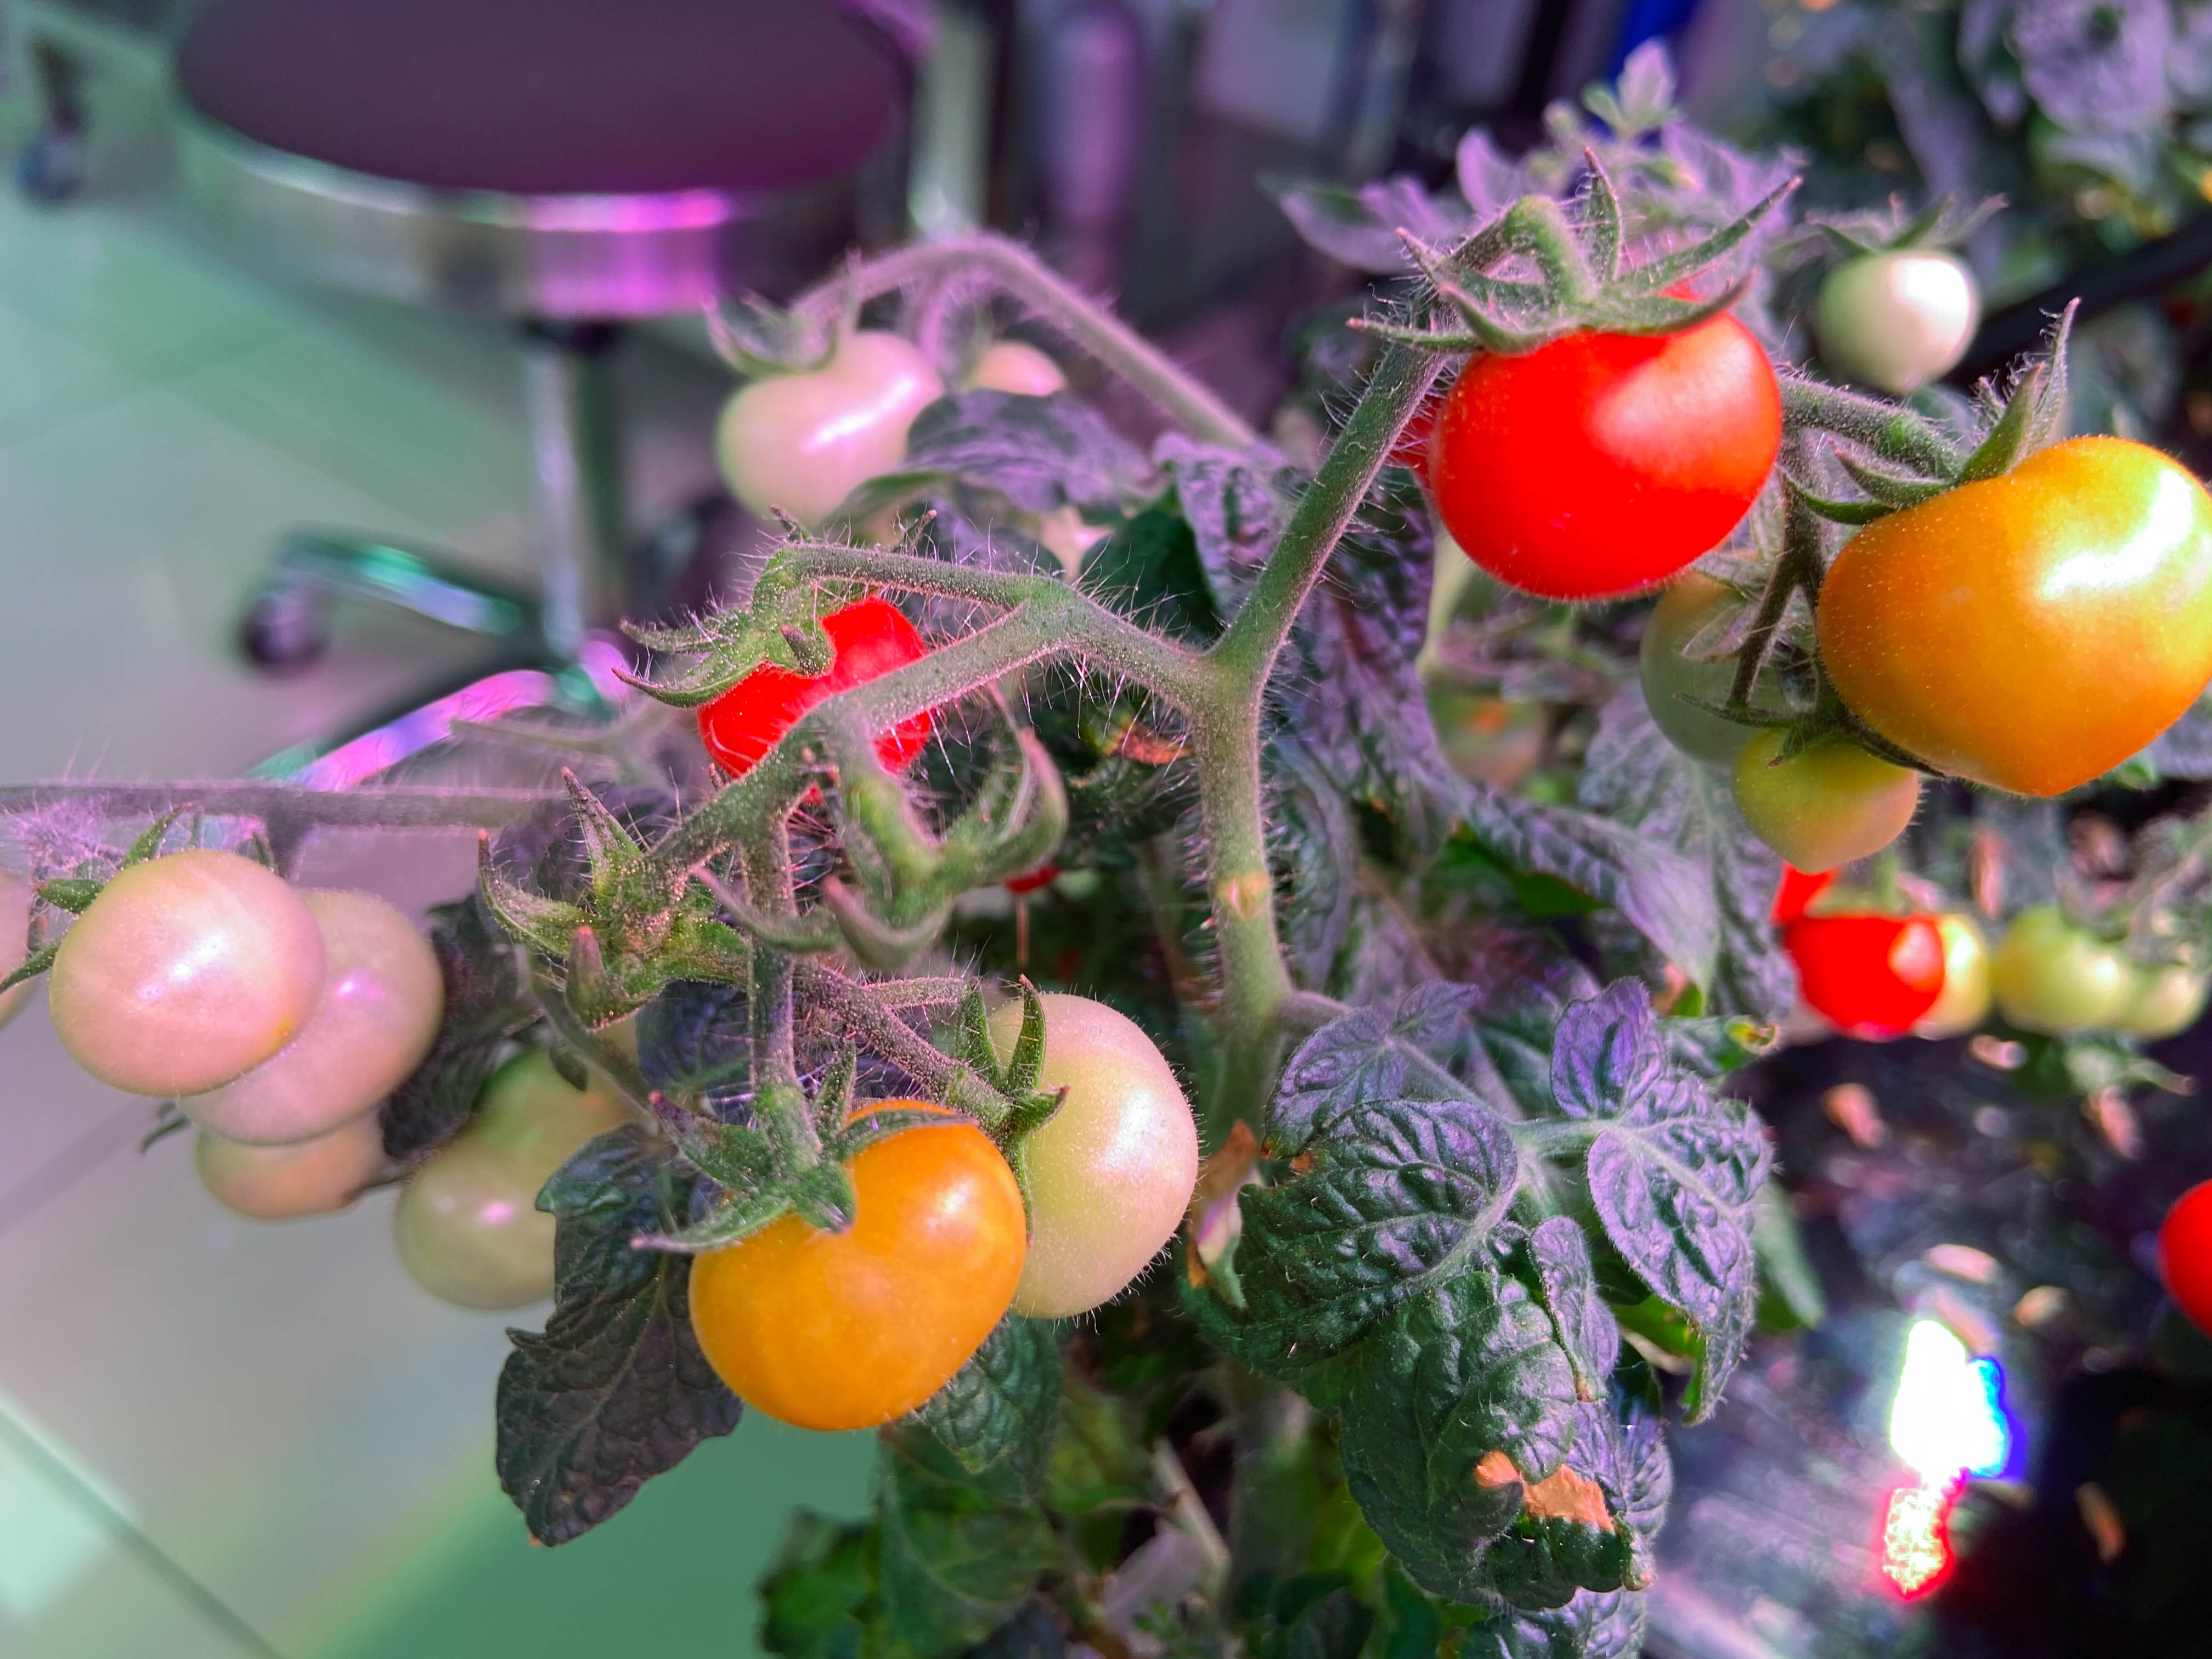green: (942, 990, 1198, 1324), (387, 1011, 657, 1316), (45, 842, 322, 1094), (199, 884, 449, 1138), (709, 329, 946, 535), (1637, 544, 1817, 765), (1726, 708, 1925, 864), (190, 1080, 392, 1220), (1808, 234, 1977, 390), (1989, 899, 2144, 1033), (2107, 927, 2207, 1037), (954, 338, 1076, 404)
red: (1817, 425, 2210, 800), (1420, 275, 1785, 599), (690, 1101, 1024, 1434), (702, 586, 939, 807), (1778, 866, 1956, 1037), (2156, 1157, 2212, 1358), (1911, 910, 1998, 1028), (984, 856, 1108, 904)
